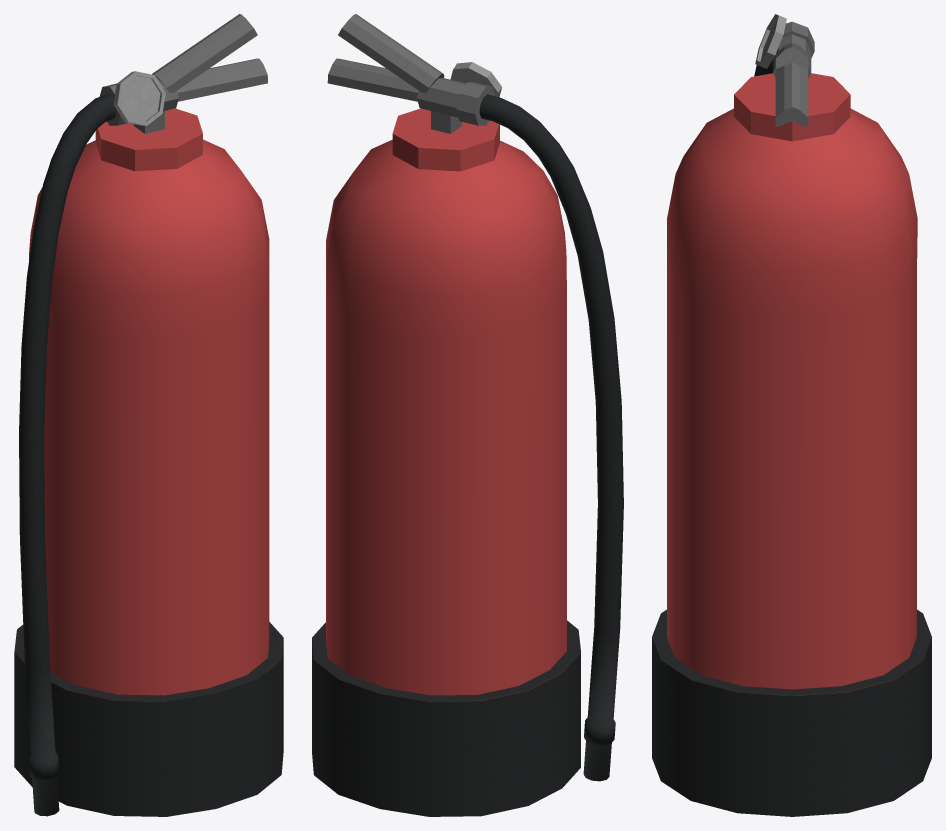
Rendered from FireExtinguisher.fbx.
The picture shows the model from 3 angles, left to right: view 1: azimuth 30°, elevation 25°; view 2: azimuth 150°, elevation 25°; view 3: azimuth 270°, elevation 25°; orthographic projection. The views are drawn at different scales.
Visible parts, largest first — view 1: Base, Tube, Switch, gauge, Valve; view 2: Base, Tube, Switch, Valve, gauge; view 3: Base, Switch, gauge, Valve.
Boxes of the visible parts, box(x1,y1,x2,y2) form: Base: box(14, 108, 283, 816); Tube: box(19, 94, 116, 816); Switch: box(152, 14, 267, 101); gauge: box(113, 71, 165, 125); Valve: box(99, 79, 178, 133); Base: box(312, 108, 580, 816); Tube: box(479, 94, 623, 781); Switch: box(327, 14, 444, 101); Valve: box(417, 78, 494, 133); gauge: box(450, 62, 501, 97); Base: box(652, 73, 931, 816); Switch: box(775, 43, 808, 126); gauge: box(755, 14, 786, 68); Valve: box(773, 21, 814, 78).
Size of the model in its own units: 35.54 by 92.24 by 30.75.
Materials: 5 (5 with a texture image).
